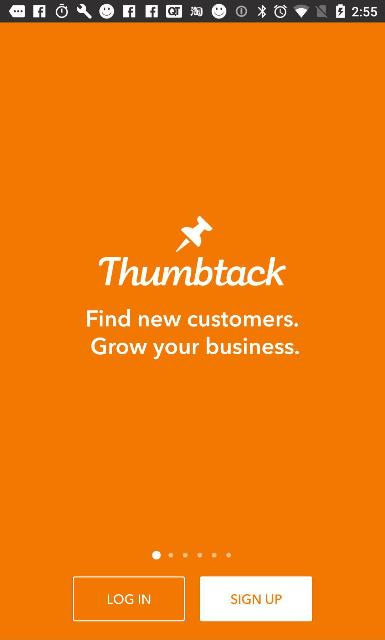Image: (98, 214, 286, 286)
PageIndicator: (151, 550, 231, 560)
Text: (87, 308, 299, 359), (232, 594, 282, 604), (108, 594, 150, 604)
TextButton: (200, 576, 312, 622), (73, 576, 185, 622)
UpperTaskBar: (0, 0, 384, 22)
